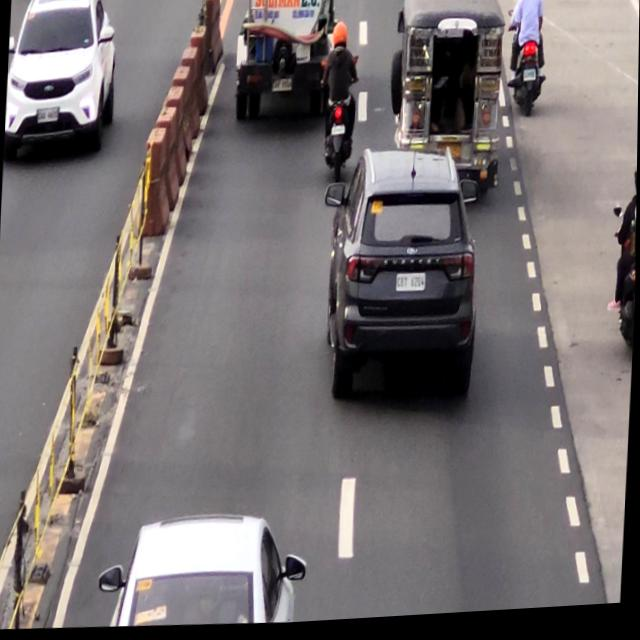Car: (329, 153, 486, 406), (107, 515, 306, 635)
Jeep: (392, 0, 507, 192)
License-Plate: (393, 271, 429, 298)
Motorcycle: (320, 28, 359, 176)
